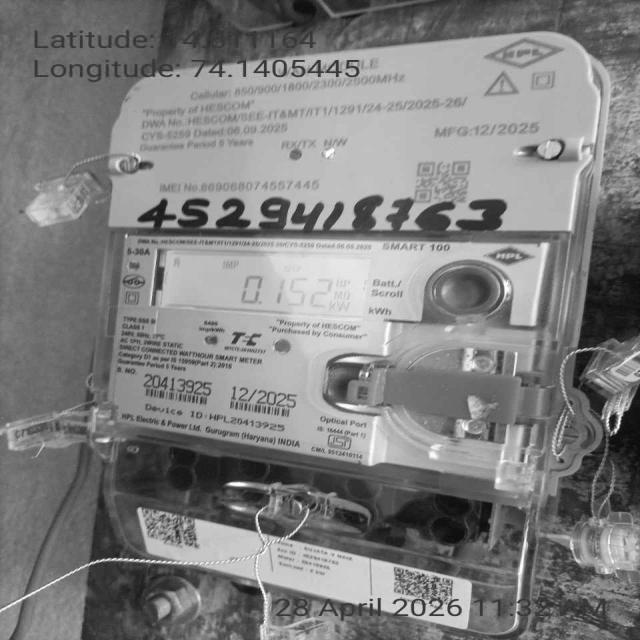meter: (113, 40, 593, 485)
